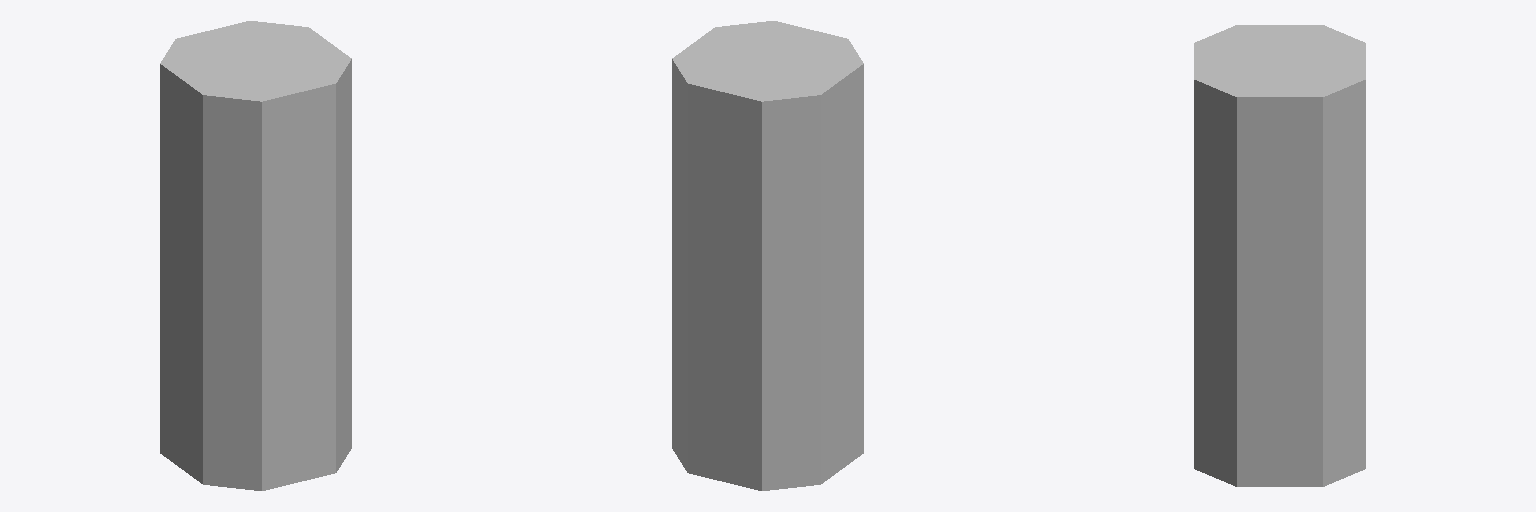
Rendered from support.obj.
3 renders of one model, left to right at view 1: azimuth 30°, elevation 25°; view 2: azimuth 150°, elevation 25°; view 3: azimuth 270°, elevation 25°, orthographic.
Parts seen in each view (by area): view 1: support; view 2: support; view 3: support.
Part boxes in pixels (x1,y1,x2,y2): support: (160,21,351,490); support: (672,21,863,490); support: (1194,25,1365,486).
Bounding box in the file's own units: 0.4 × 1 × 0.4.